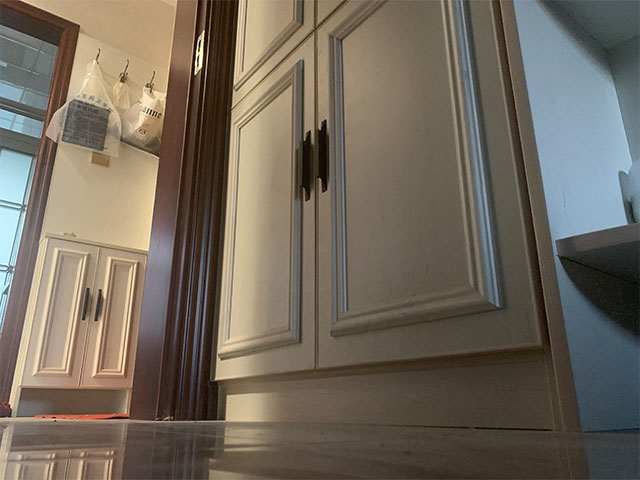cabinet: (215, 1, 559, 432), (8, 233, 149, 416)
carpet: (34, 413, 129, 420)
